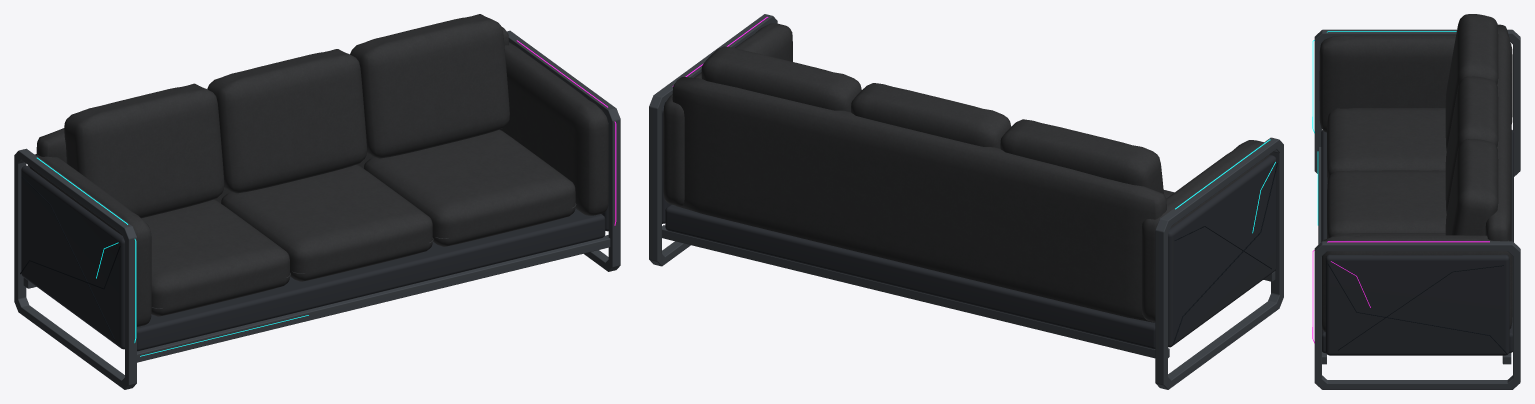
The model's file is cyberpunk_sofa_3_lugares.glb.
3 views of the same model, side by side, from view 1: azimuth 30°, elevation 25°; view 2: azimuth 150°, elevation 25°; view 3: azimuth 270°, elevation 25° (orthographic). The views are drawn at different scales.
Visible parts, largest first — view 1: sofa_3_lugares; view 2: sofa_3_lugares; view 3: sofa_3_lugares.
Boxes of the visible parts, x1,y1,x2,y2 form: sofa_3_lugares: (14, 14, 620, 389); sofa_3_lugares: (649, 14, 1283, 389); sofa_3_lugares: (1312, 14, 1520, 389).
Bounding box in the file's own units: 2.19 × 0.8549 × 0.8887.
8 materials, 2 textured.
